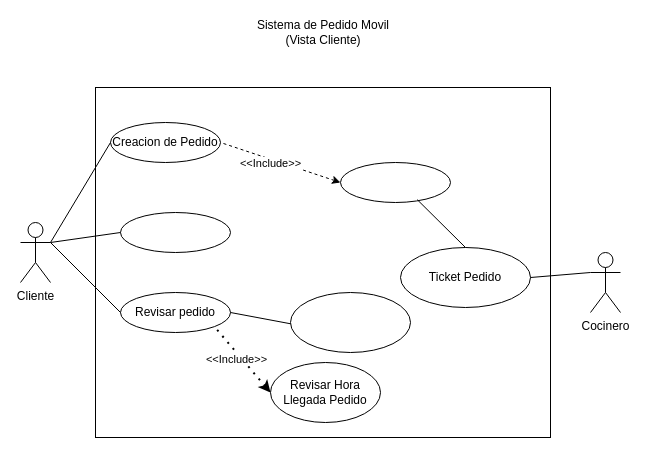
This 647x455 diagram has some shape labels left out. Each missing label, with the centre of its shape:
"Cancelar pedido" belongs at (175,232).
"Lista de Ingredientes" belongs at (395,182).
"Revisar N° Ticket" belongs at (350,322).
